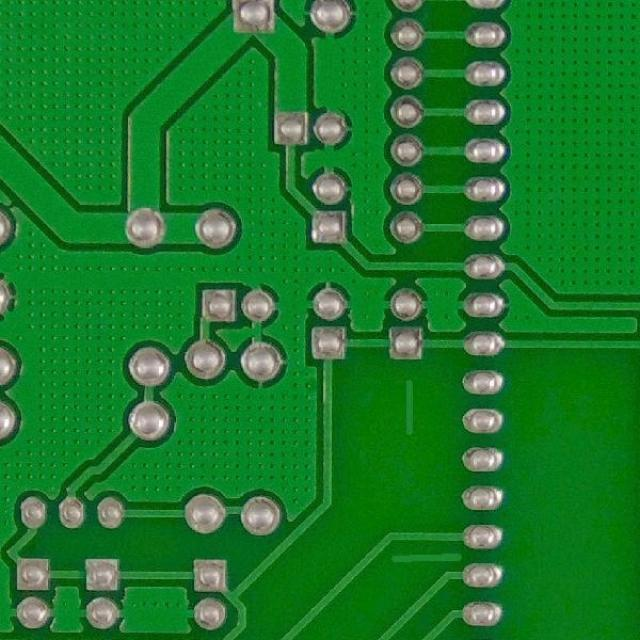Spurious_Cooper: (388, 551, 466, 567), (402, 374, 419, 442)
